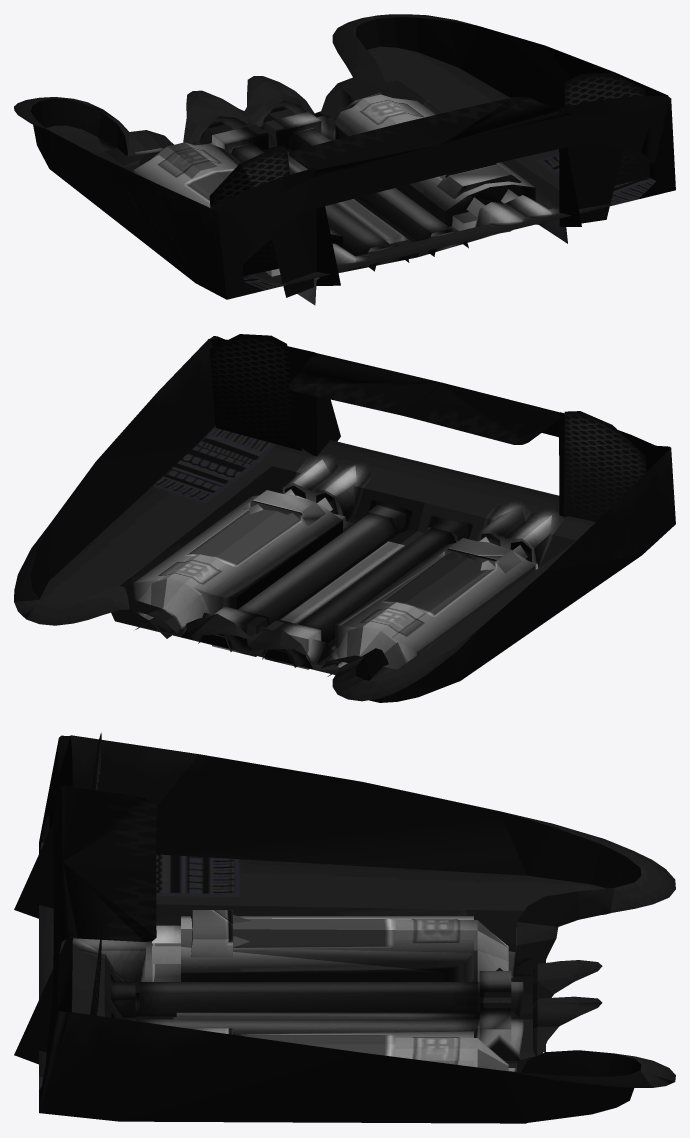
Rendered from Bugatti_Veyron.FBX.
3 views of the same model, one above another, from view 1: azimuth 30°, elevation 25°; view 2: azimuth 150°, elevation 25°; view 3: azimuth 270°, elevation 25° (orthographic). The views are drawn at different scales.
Parts seen in each view (by area): view 1: Object001; view 2: Object001; view 3: Object001.
Boxes of the visible parts, x1,y1,x2,y2 form: Object001: (14,14,675,305); Object001: (14,334,675,702); Object001: (14,732,675,1123).
Size of what is drawn, in the model's own units: 1.11 by 0.3778 by 1.12.
1 material, 1 textured.
